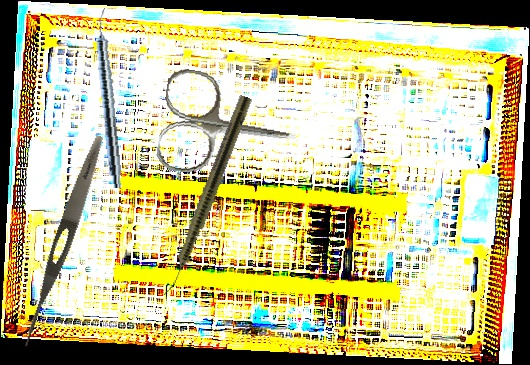Dressing Forceps: (17, 132, 109, 352)
Handpiece: (160, 93, 254, 300), (91, 8, 127, 189)
Iris Scissors: (154, 66, 304, 189)
